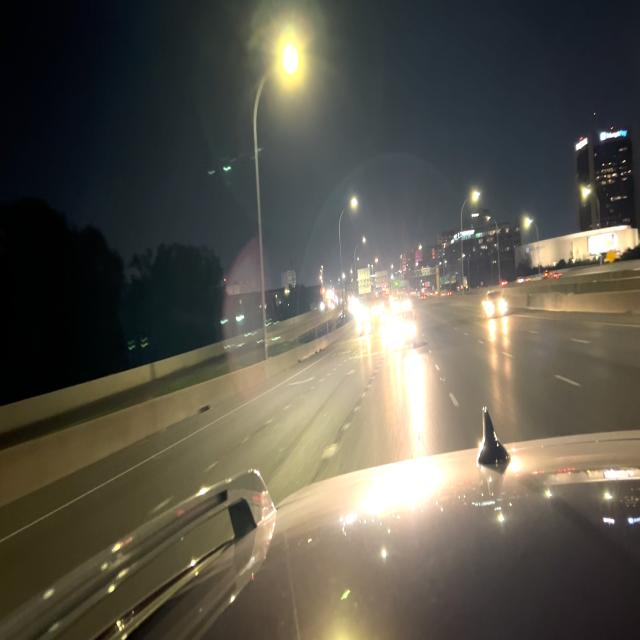back-of-sign: (357, 266, 390, 295)
